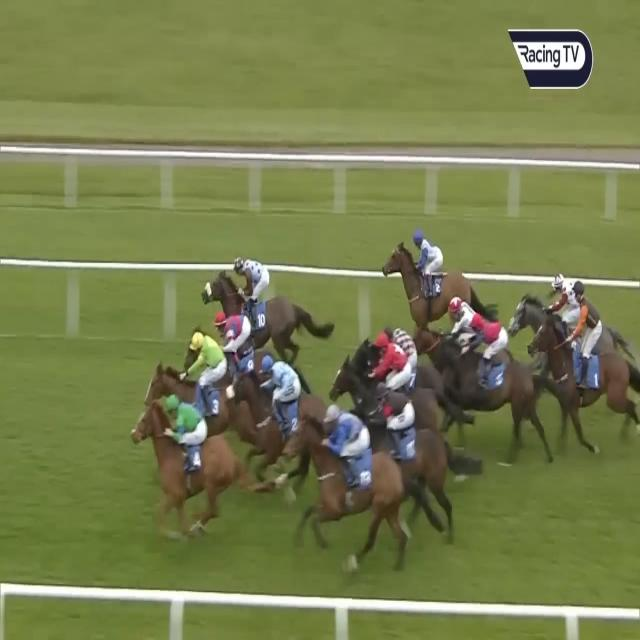horses-racing: (284, 404, 415, 555), (135, 400, 242, 534), (528, 286, 625, 429), (200, 256, 317, 346), (440, 314, 532, 427), (382, 230, 478, 316), (253, 350, 325, 448), (364, 384, 441, 468), (168, 326, 242, 412), (411, 297, 487, 365), (512, 273, 589, 336), (205, 316, 278, 379), (344, 336, 417, 390), (379, 321, 438, 385)
